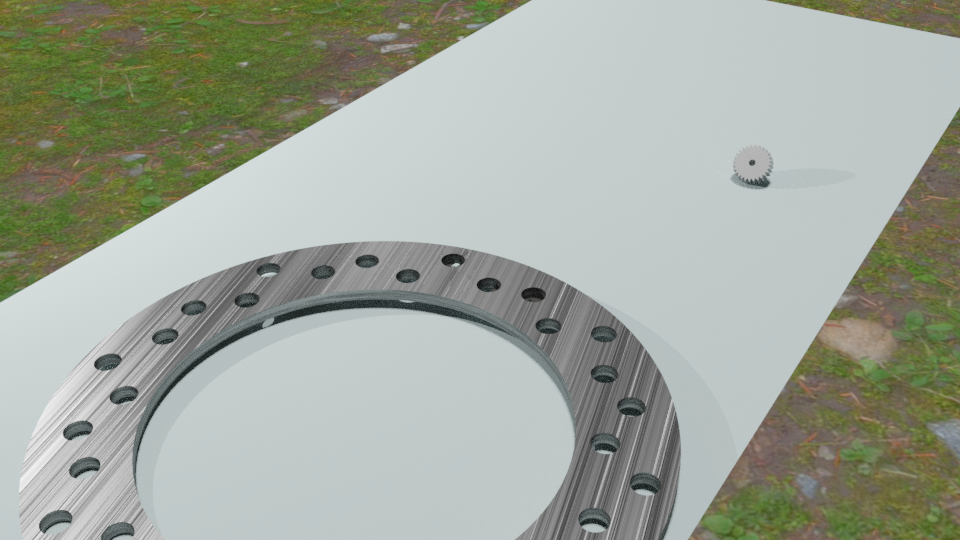yamaha_letters: (440, 179, 749, 303)
